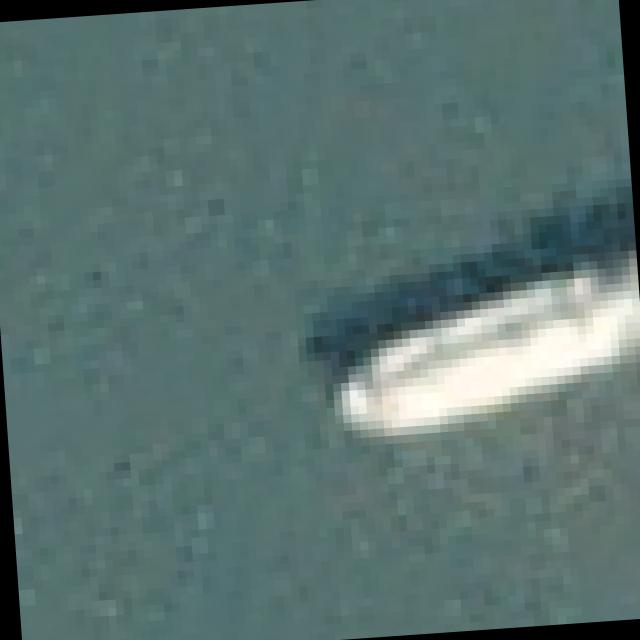ship: (304, 186, 640, 464)
